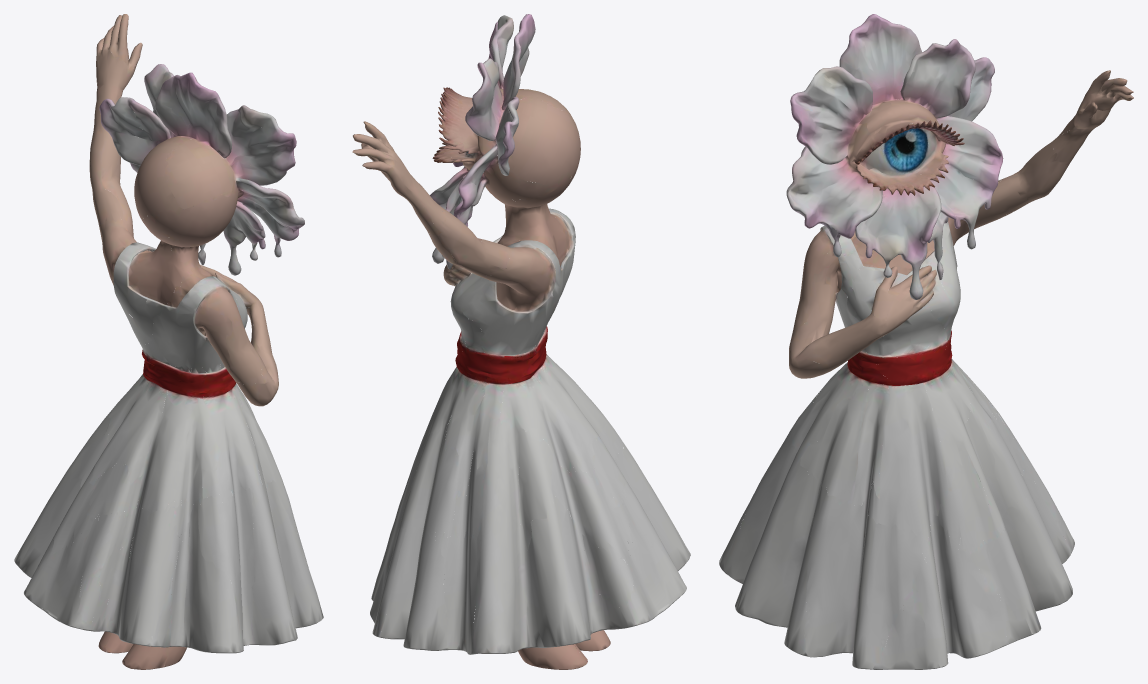
Rendered from maria.glb.
The picture shows the model from 3 angles, left to right: view 1: azimuth 30°, elevation 25°; view 2: azimuth 150°, elevation 25°; view 3: azimuth 270°, elevation 25°; orthographic projection. The views are drawn at different scales.
Visible parts, largest first — view 1: tripo_node_a44cb3cb-3c39-4237-9c45-5ce183a6ffa5; view 2: tripo_node_a44cb3cb-3c39-4237-9c45-5ce183a6ffa5; view 3: tripo_node_a44cb3cb-3c39-4237-9c45-5ce183a6ffa5.
Boxes of the visible parts, <box> form: tripo_node_a44cb3cb-3c39-4237-9c45-5ce183a6ffa5: <box>14,14,323,669</box>; tripo_node_a44cb3cb-3c39-4237-9c45-5ce183a6ffa5: <box>352,14,690,669</box>; tripo_node_a44cb3cb-3c39-4237-9c45-5ce183a6ffa5: <box>719,14,1133,669</box>.
Bounding box in the file's own units: 0.4672 × 1 × 0.6054.
1 material, 1 textured.
